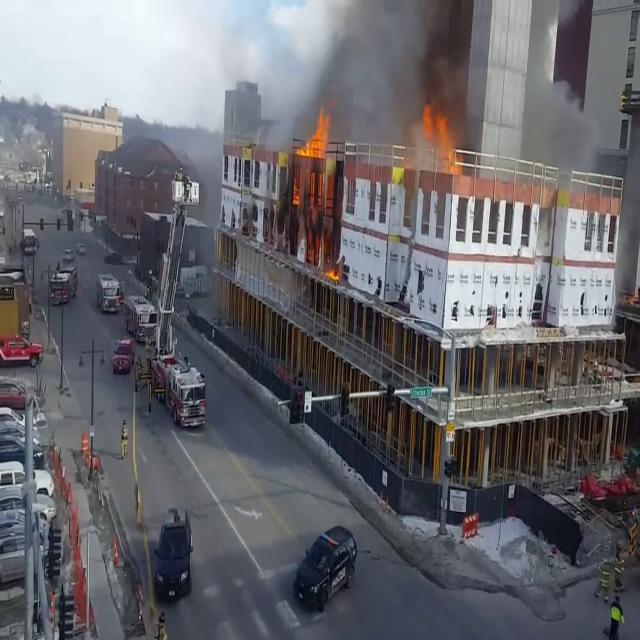Fire: (420, 101, 470, 181), (294, 104, 334, 166)
Smoke: (297, 0, 468, 148), (613, 92, 640, 303)
